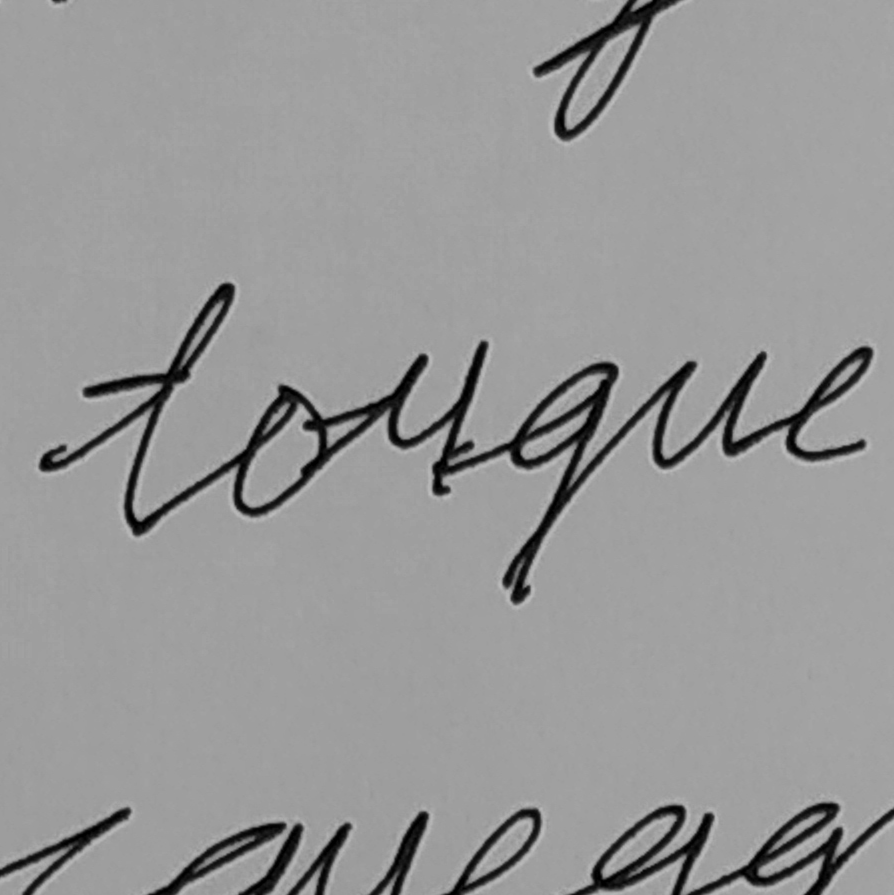e: (782, 340, 874, 464)
o: (230, 381, 332, 520)
q: (496, 359, 624, 608)
r: (364, 337, 493, 501)
t: (80, 277, 238, 543)
u: (648, 347, 769, 473)
